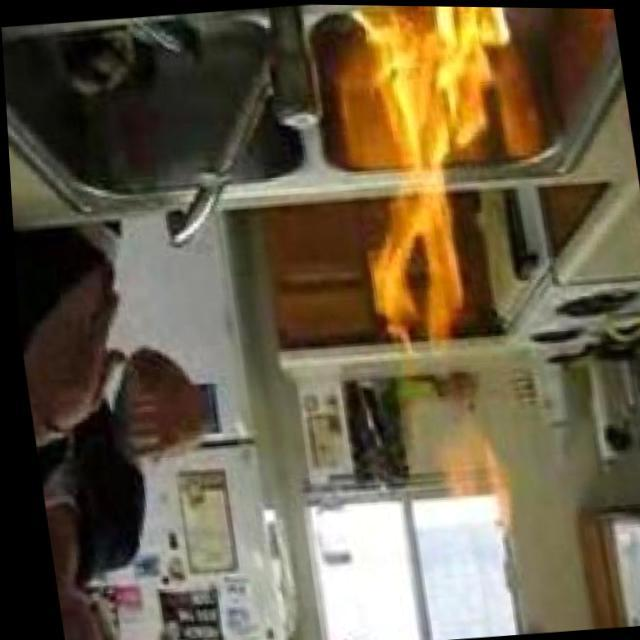fire: (332, 4, 544, 360), (406, 412, 522, 552)
